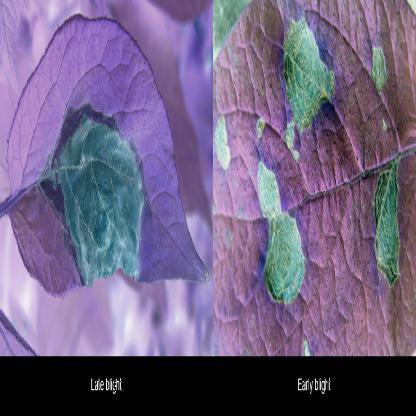potato leaf early blight: (213, 6, 416, 359)
potato leaf late blight: (0, 11, 210, 313)
